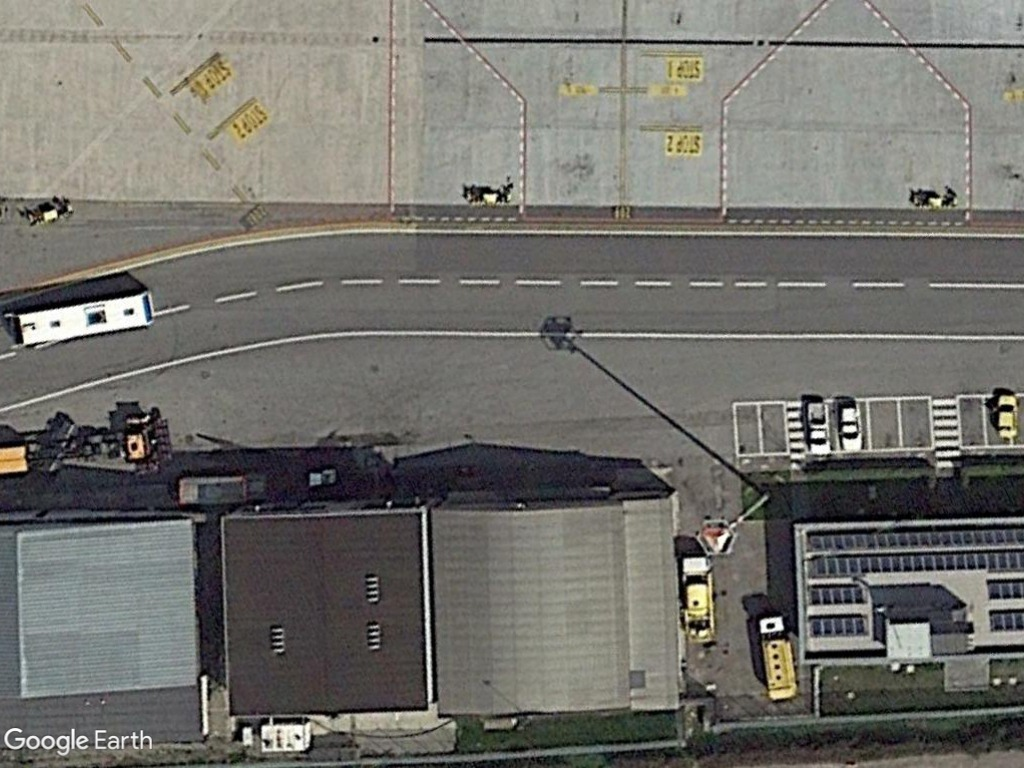bus: (6, 287, 157, 350)
car: (832, 398, 866, 458), (992, 390, 1024, 445)
other: (801, 399, 834, 460)
